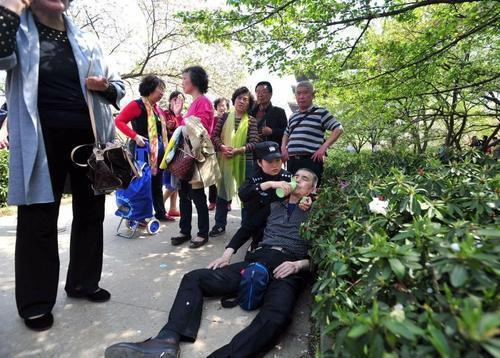Fall-Detected: (73, 145, 329, 358)
